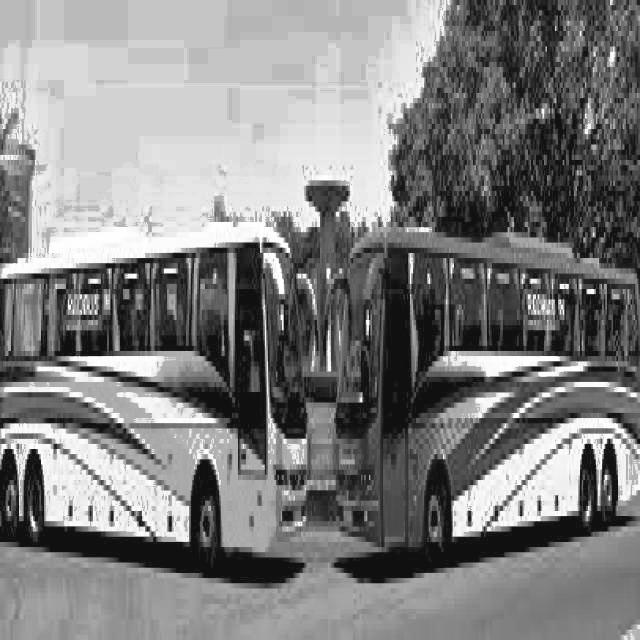Bus: (20, 179, 322, 605), (325, 184, 640, 573)
